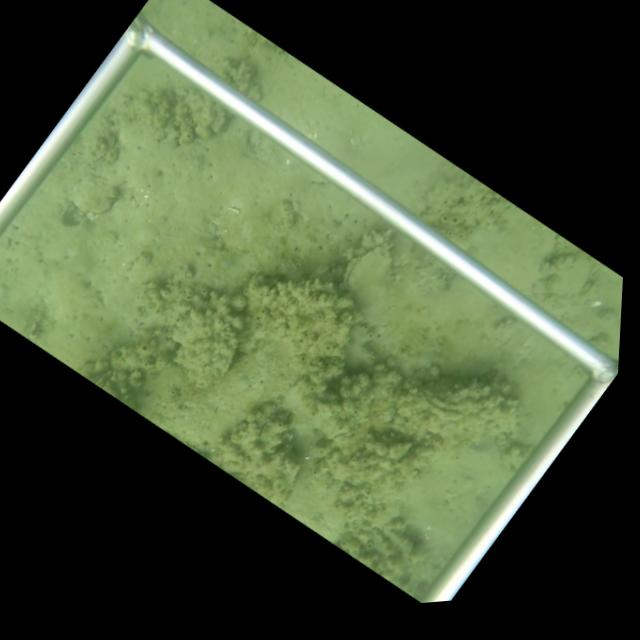Oyster-Closed: (340, 239, 396, 336)
Oyster-Indeterminate: (138, 280, 248, 392), (68, 172, 121, 220)
Oyster-Open: (417, 381, 465, 424)
